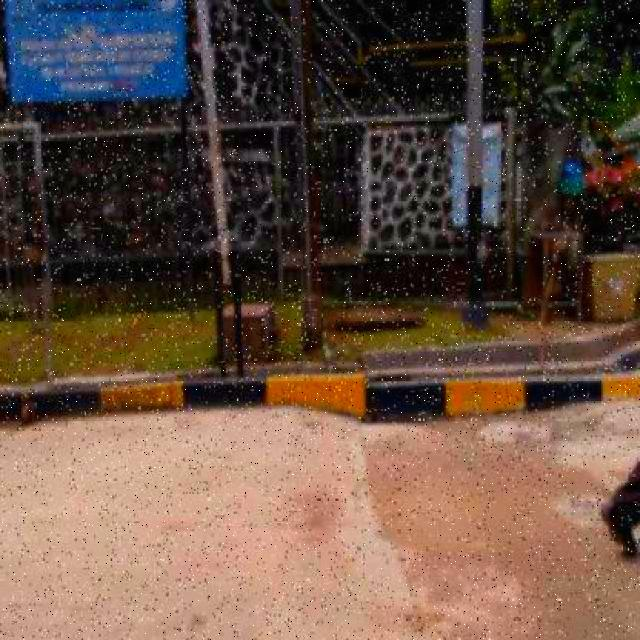Boots: (597, 494, 640, 562)
